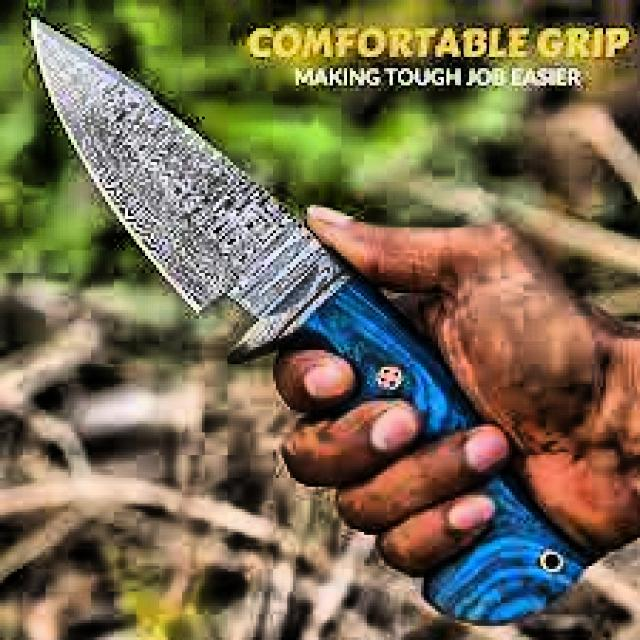knife: (32, 26, 590, 626)
